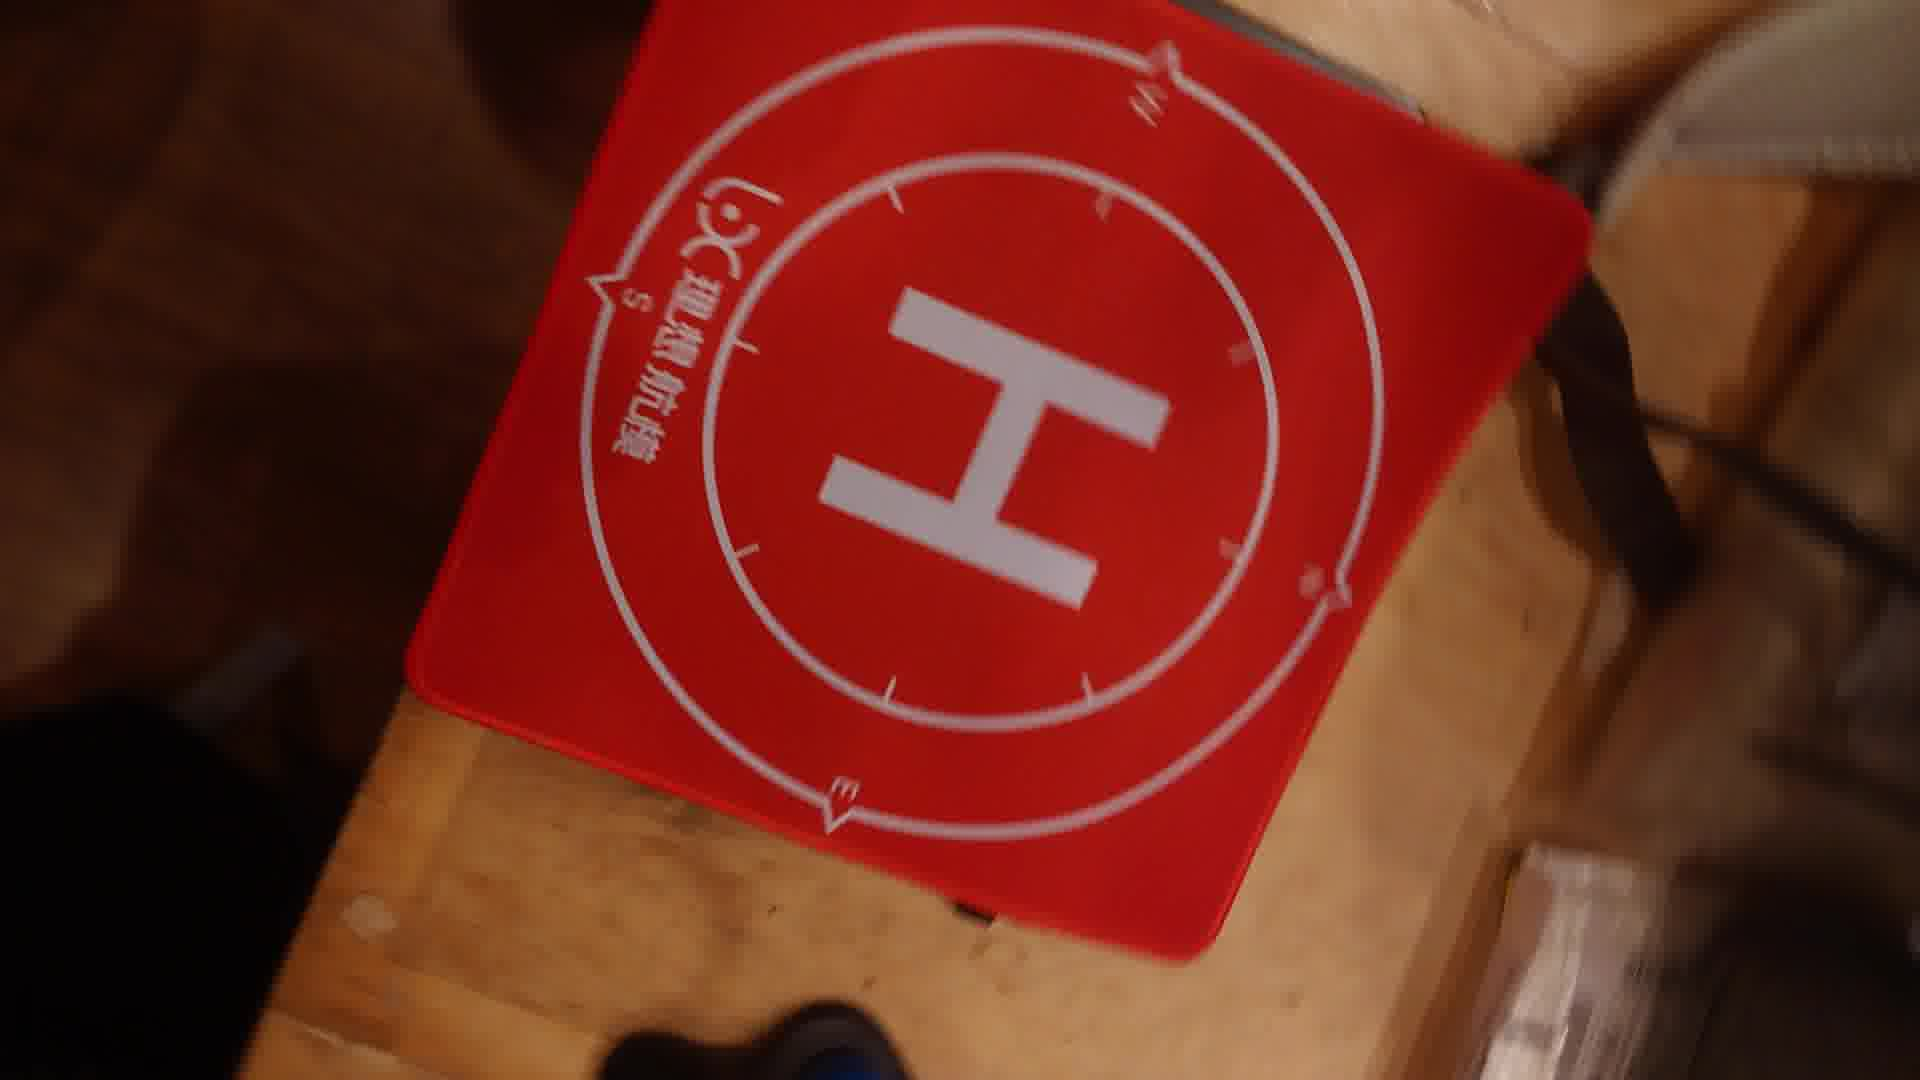H: (819, 289, 1179, 613)
